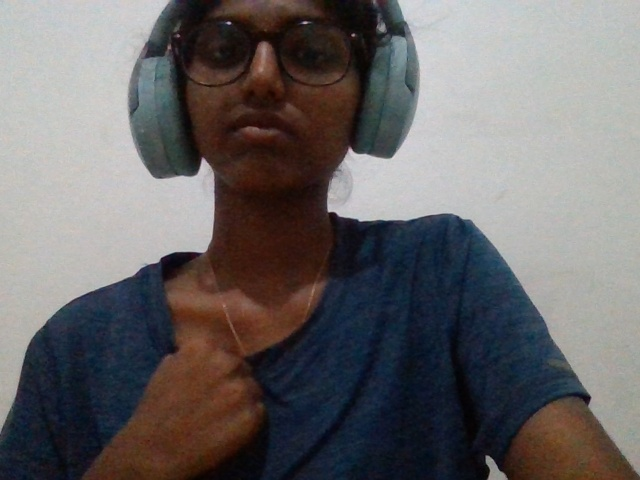Sorry: (85, 317, 296, 480)
